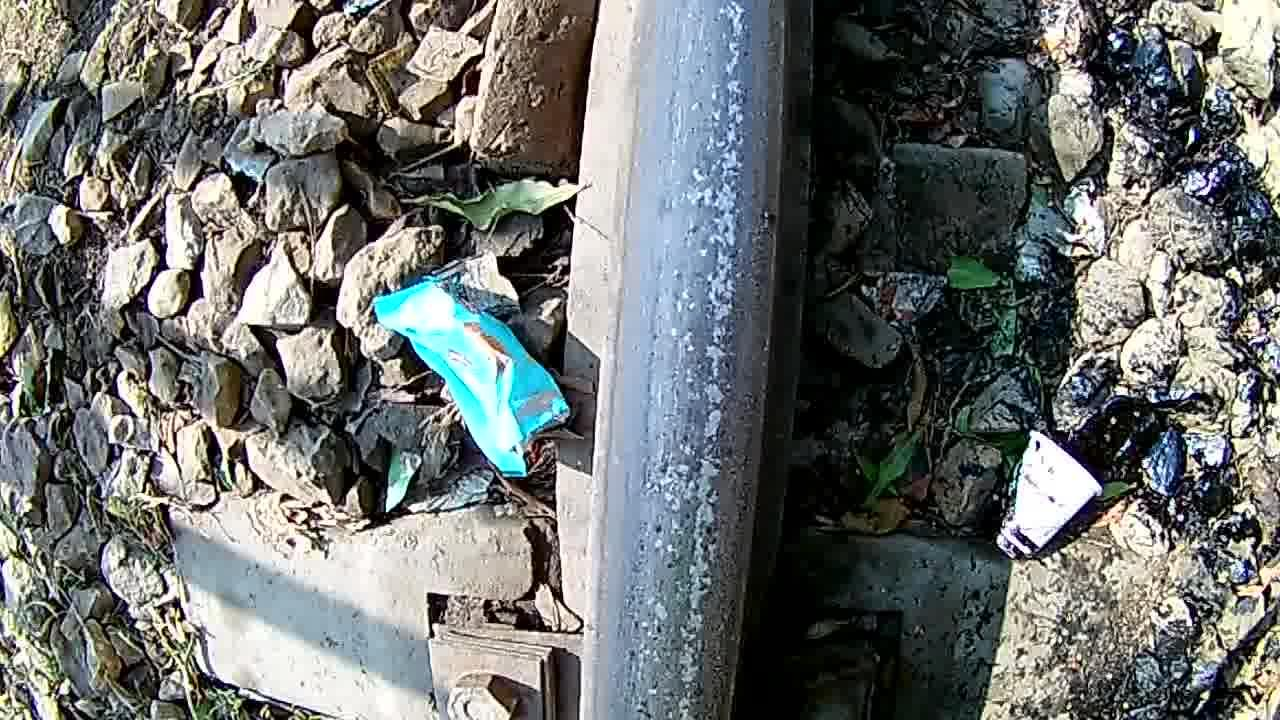clip_missing: (586, 0, 800, 720)
